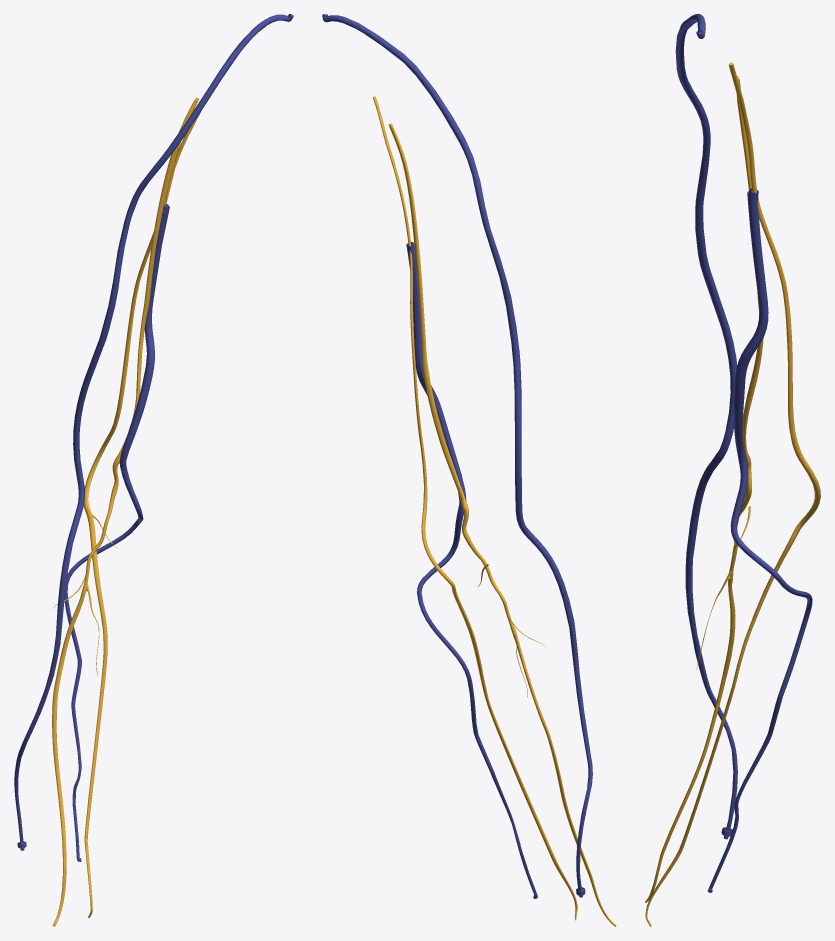
Rendered from arm-core.glb.
3 views of the same model, side by side, from view 1: azimuth 30°, elevation 25°; view 2: azimuth 150°, elevation 25°; view 3: azimuth 270°, elevation 25° (orthographic). The views are drawn at different scales.
Visible parts, largest first — view 1: part_1_3, part_0_0, part_2_8, part_3_9; view 2: part_1_3, part_2_8, part_0_0, part_3_9; view 3: part_1_3, part_0_0, part_3_9, part_2_8.
Part boxes in pixels (left/top/right/bottom): part_1_3: left=14, top=14, right=289, bottom=842; part_0_0: left=64, top=206, right=169, bottom=860; part_2_8: left=52, top=97, right=199, bottom=926; part_3_9: left=83, top=112, right=200, bottom=917; part_1_3: left=324, top=15, right=592, bottom=890; part_2_8: left=388, top=123, right=616, bottom=926; part_0_0: left=407, top=249, right=537, bottom=897; part_3_9: left=373, top=96, right=577, bottom=920; part_1_3: left=675, top=14, right=737, bottom=830; part_0_0: left=708, top=191, right=812, bottom=888; part_3_9: left=645, top=62, right=820, bottom=926; part_2_8: left=645, top=76, right=763, bottom=902.
Size of the model in its own units: 0.1871 by 0.5618 by 0.0868.
